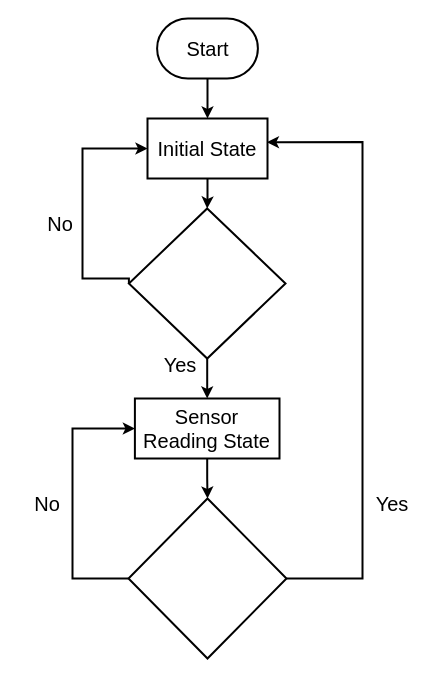
This 439x676 diagram has some shape labels left out. The shapes that lost their labels are listed below. From the top down, each one's centre as x and y in pixels, then its label:
At point 206,283: "Get start message from Raspberry Pi?".
At point 207,578: "Get reset message from Raspberry Pi?".
